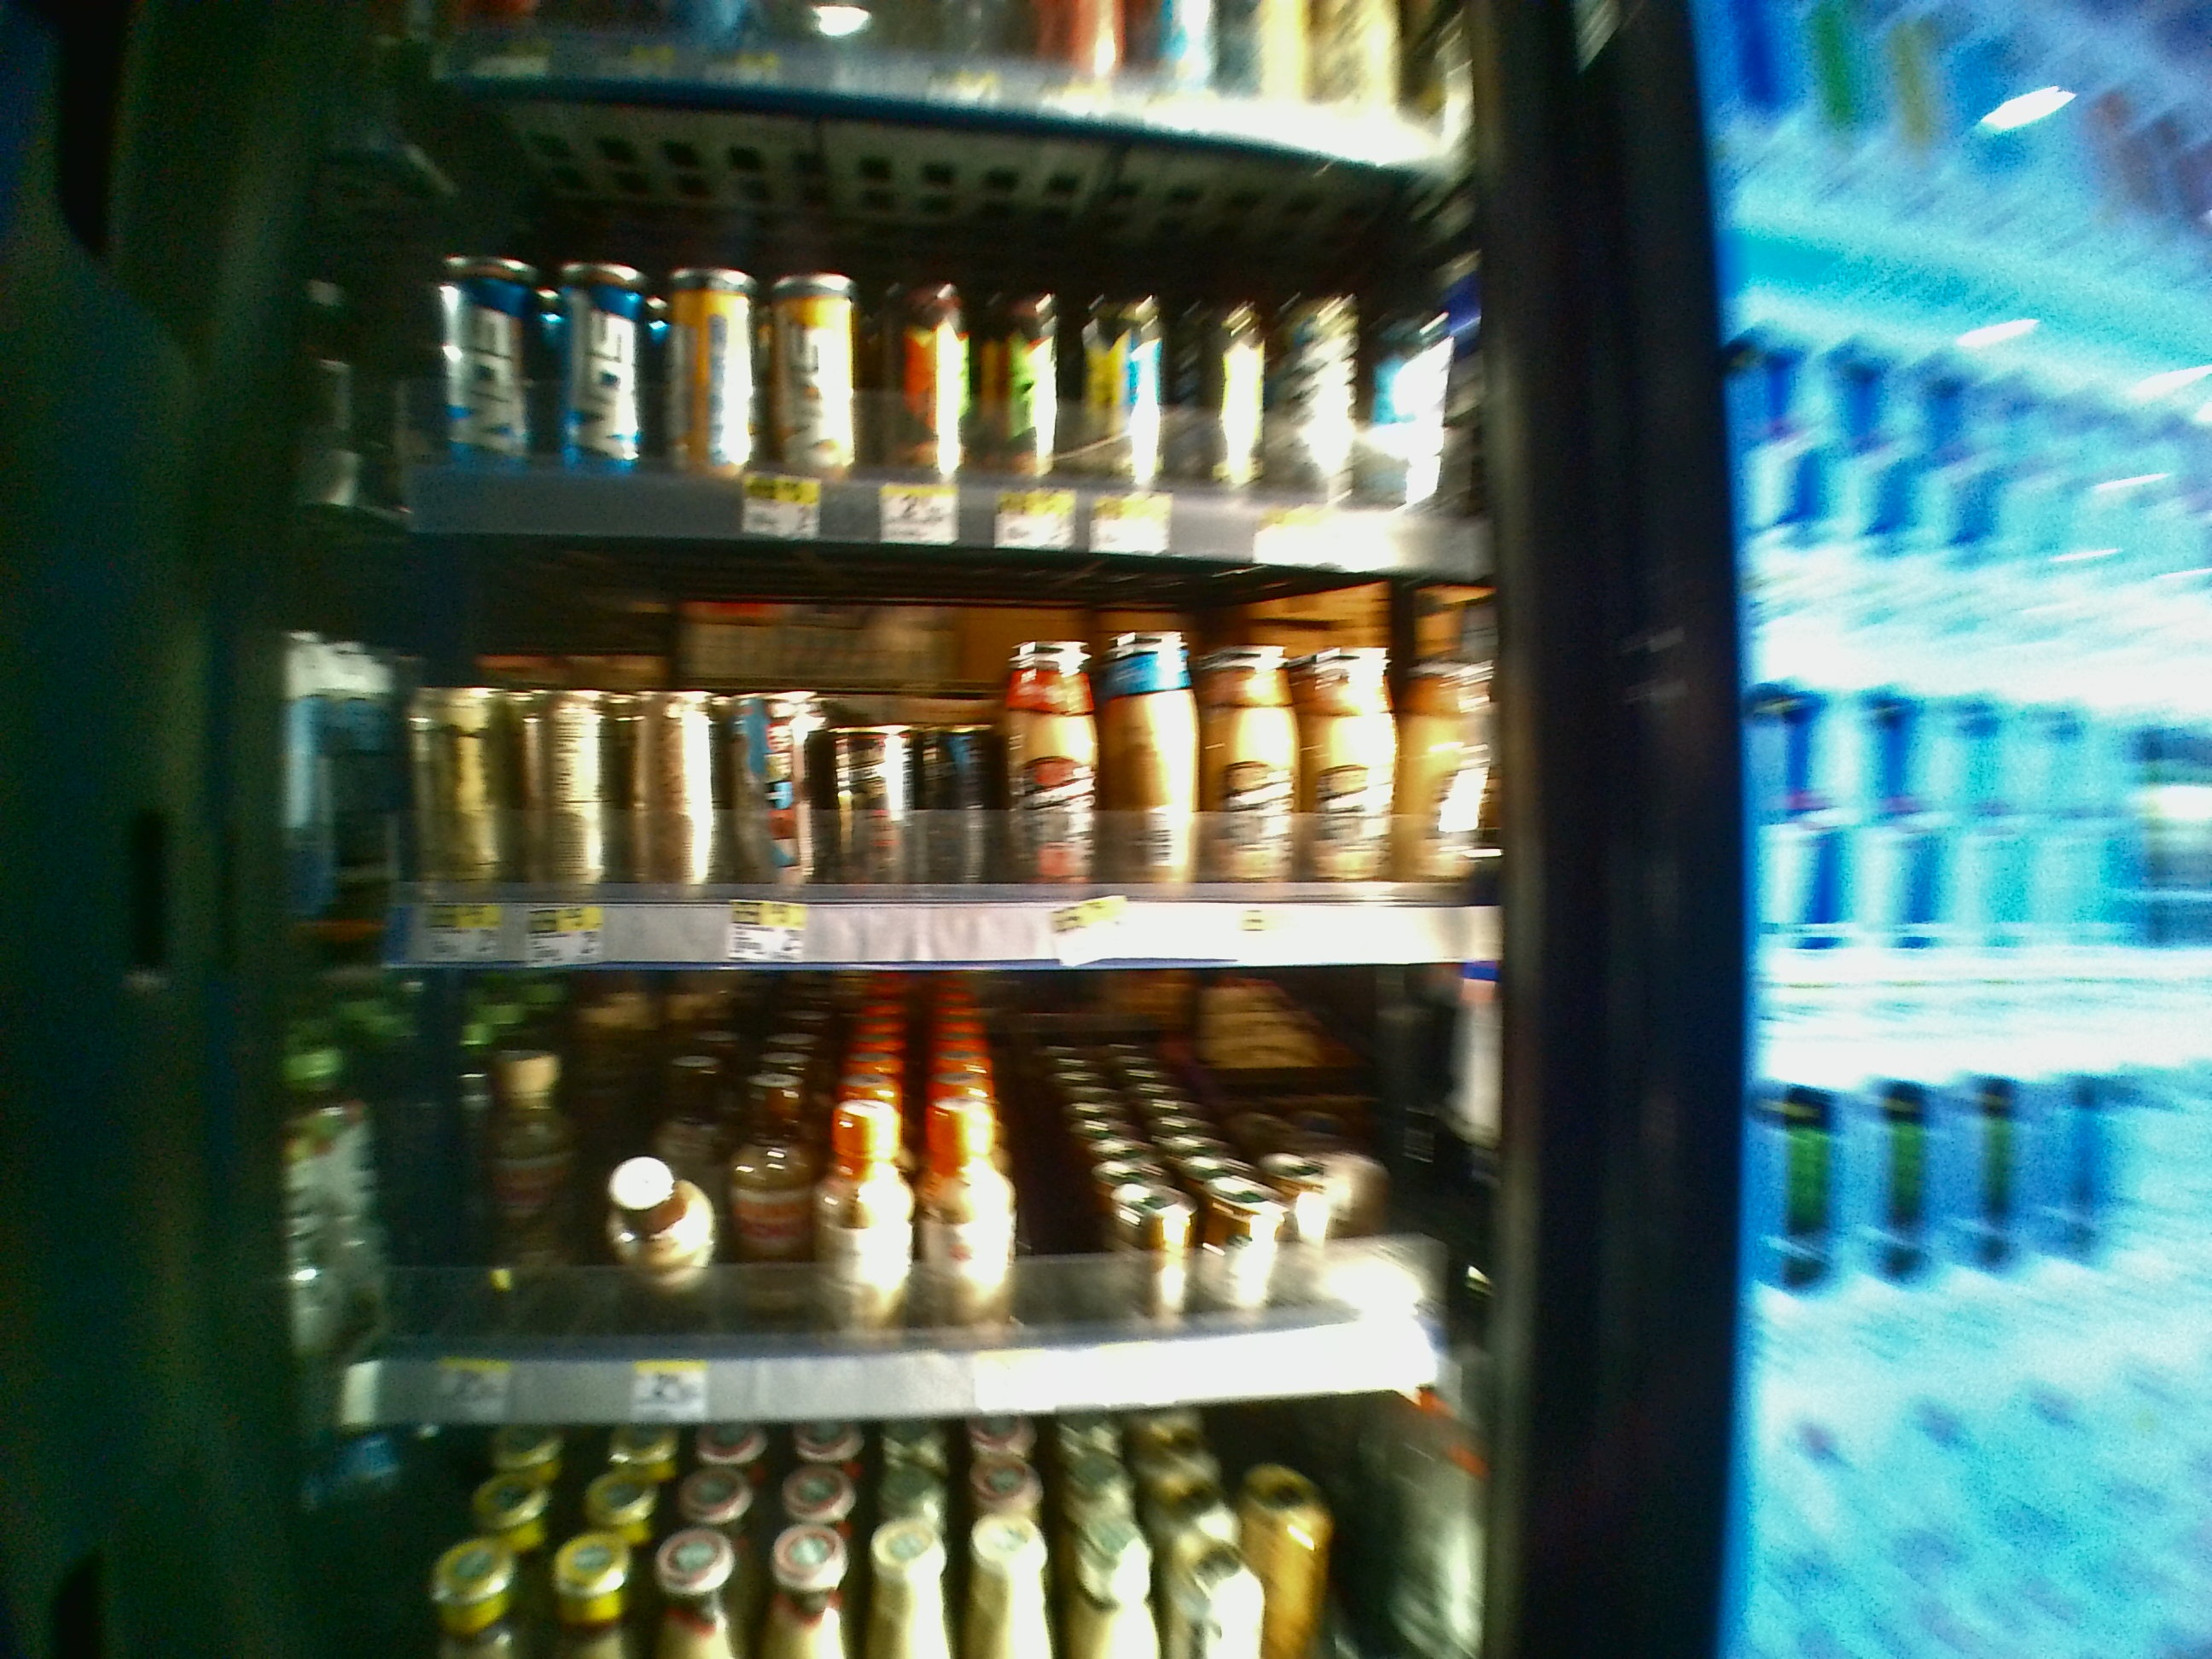shelf: (268, 960, 1521, 1403), (289, 538, 1512, 953)
